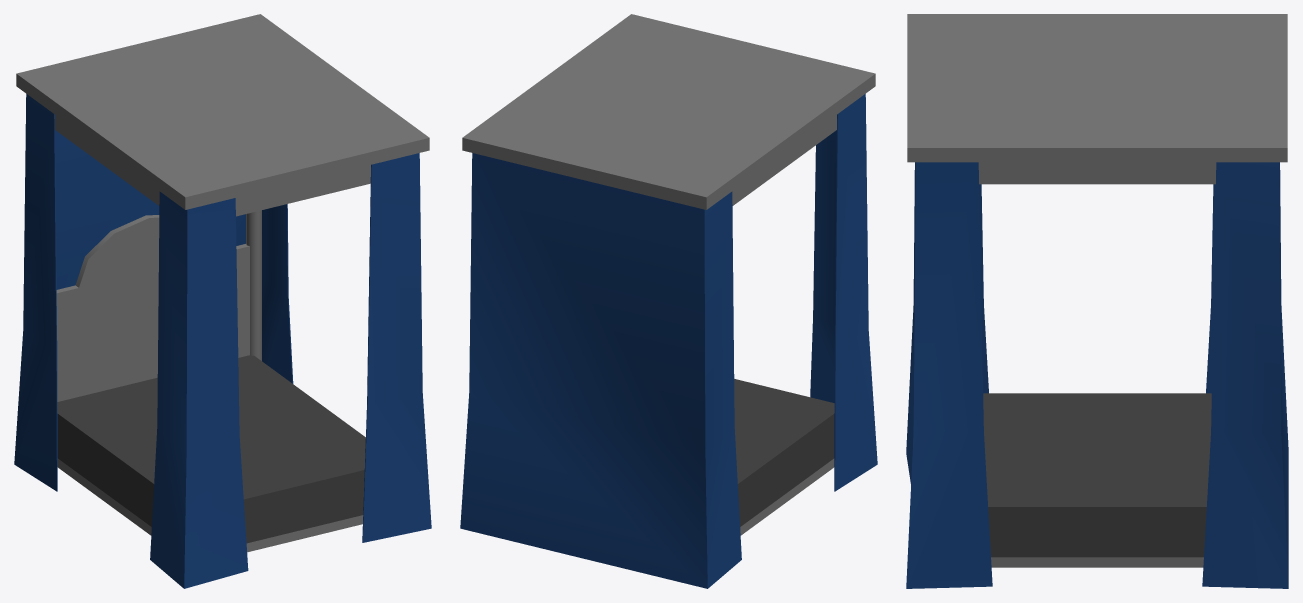
Rendered from bed2.FBX.
The picture shows the model from 3 angles, left to right: view 1: azimuth 30°, elevation 25°; view 2: azimuth 150°, elevation 25°; view 3: azimuth 270°, elevation 25°; orthographic projection. The views are drawn at different scales.
Visible parts, largest first — view 1: bed2; view 2: bed2; view 3: bed2.
Boxes of the visible parts, left/top/right/bottom form: bed2: left=14, top=14, right=431, bottom=588; bed2: left=460, top=14, right=877, bottom=588; bed2: left=906, top=14, right=1288, bottom=588.
Bounding box in the file's own units: 285 × 430 × 339.
